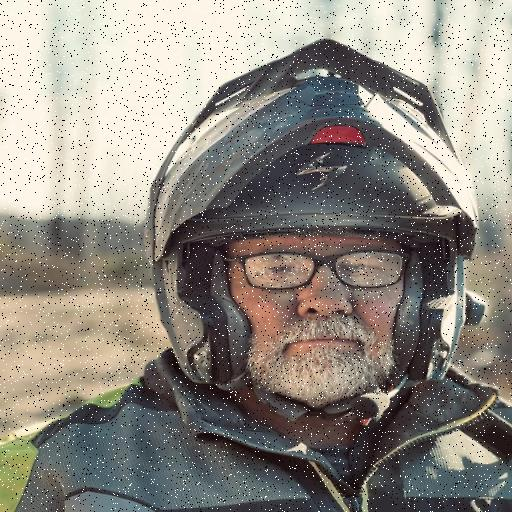Helmet: (145, 40, 483, 389)
